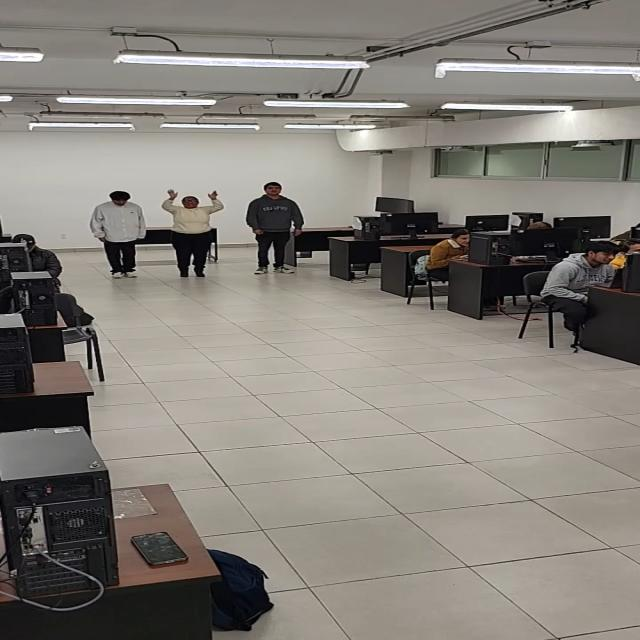Persona: (161, 188, 225, 278), (246, 182, 305, 274), (90, 191, 147, 279)
